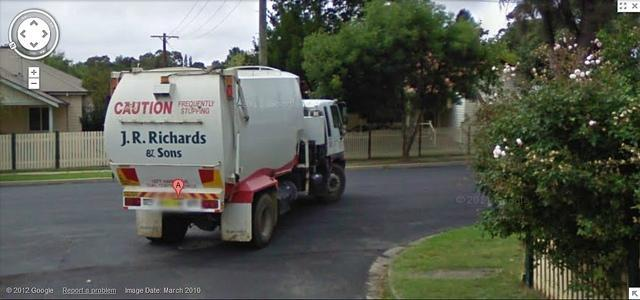truck: (104, 66, 350, 245)
